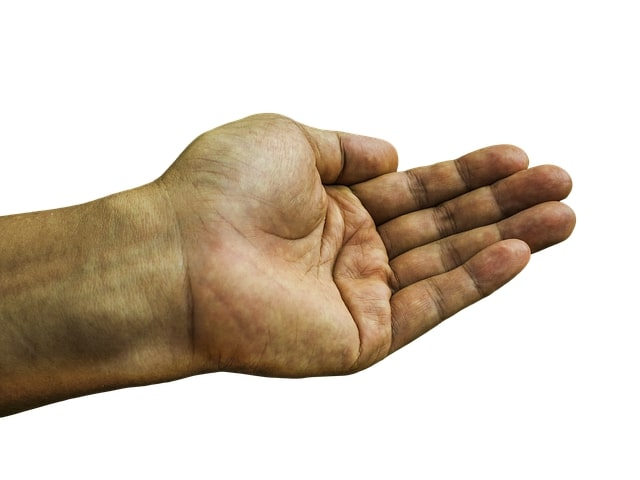palmhand: (180, 112, 576, 381)
